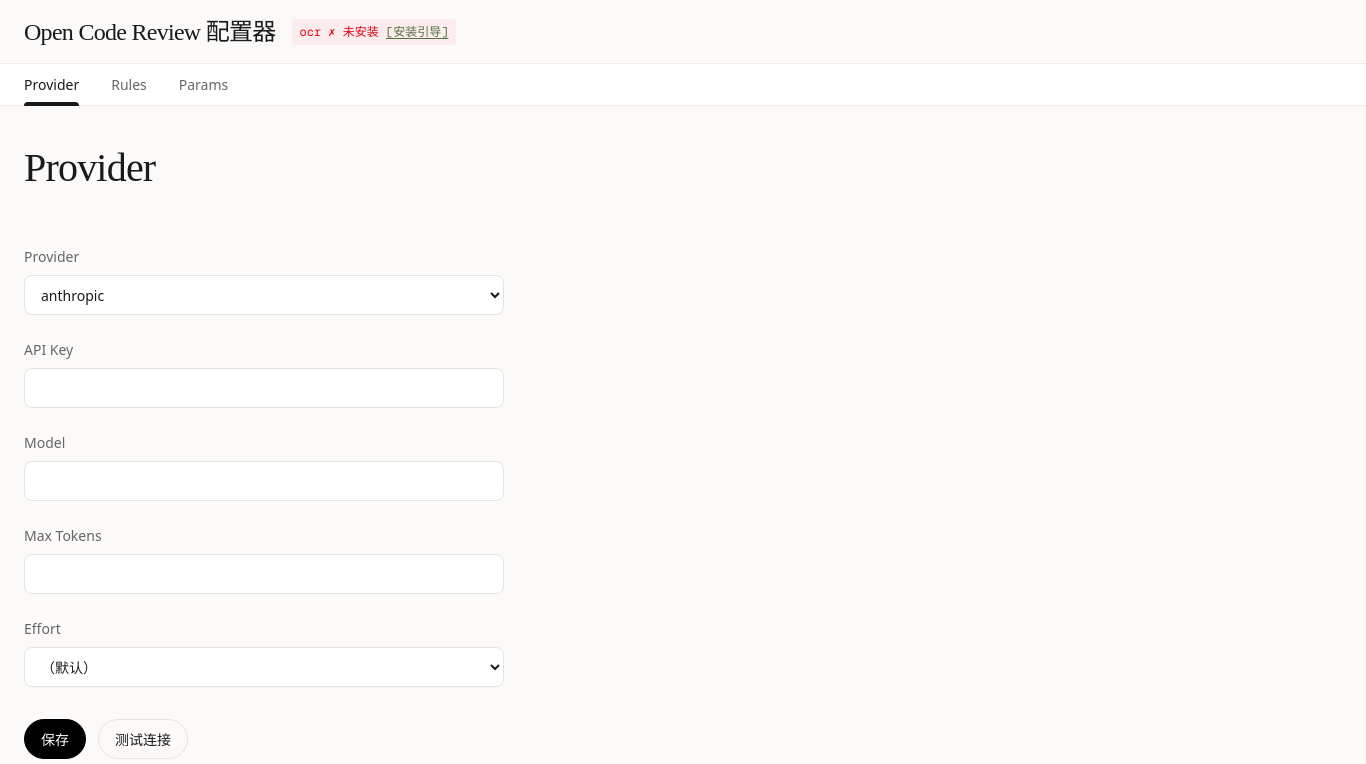
App 未安装 ocr 降级 › probe 失败时应用外壳仍渲染，状态条显示未安装 + 安装引导，三个 Tab 可切换
The width and height of the screenshot is (1366, 764).
Expected: the text "Open Code Review 配置器" is shown, x1=24 y1=14 x2=276 y2=50
Expected: the button "Provider" is shown, x1=24 y1=64 x2=79 y2=105
// 未安装状态下仍可切换到其它 Tab（不依赖 ocr 存在）。
Click the button "Params": (204, 84) x1=179 y1=64 x2=228 y2=105
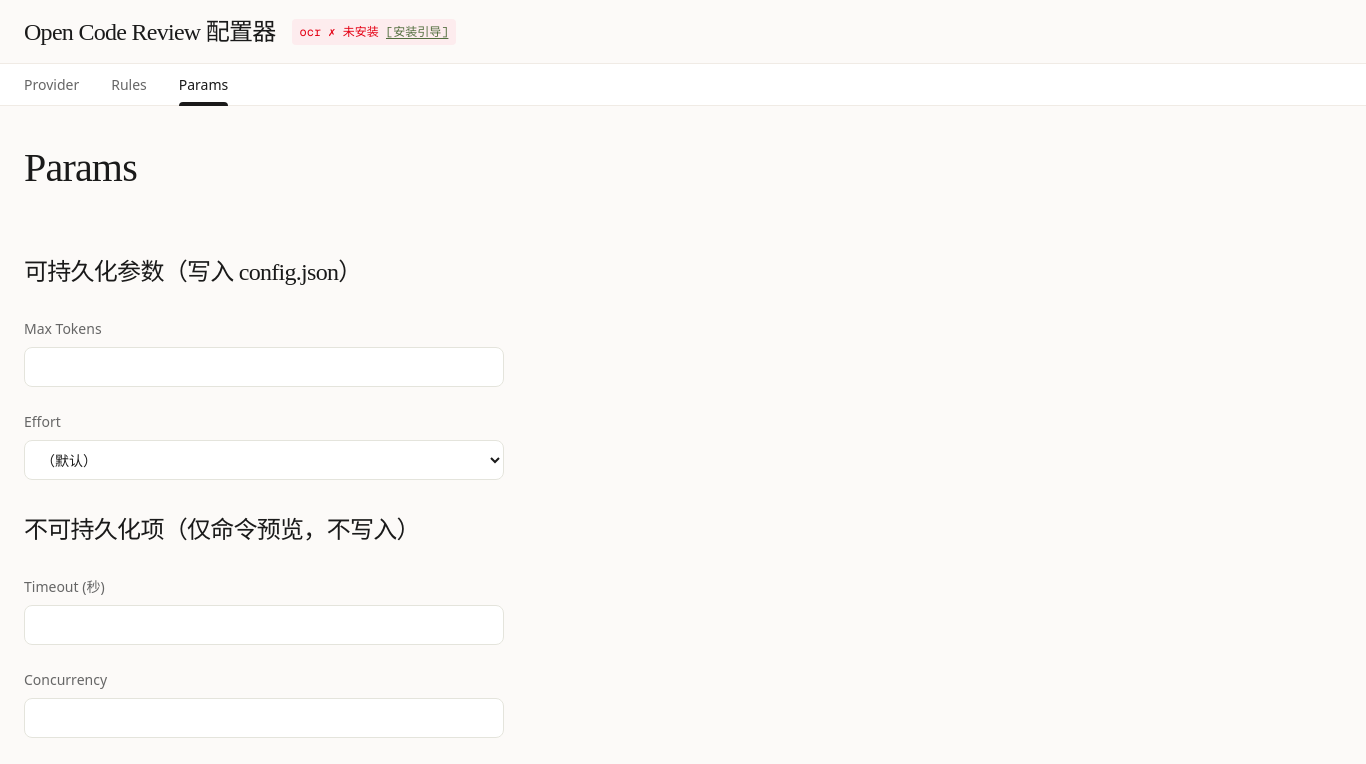
Expected: the heading "Params" is shown, x1=24 y1=145 x2=137 y2=190
